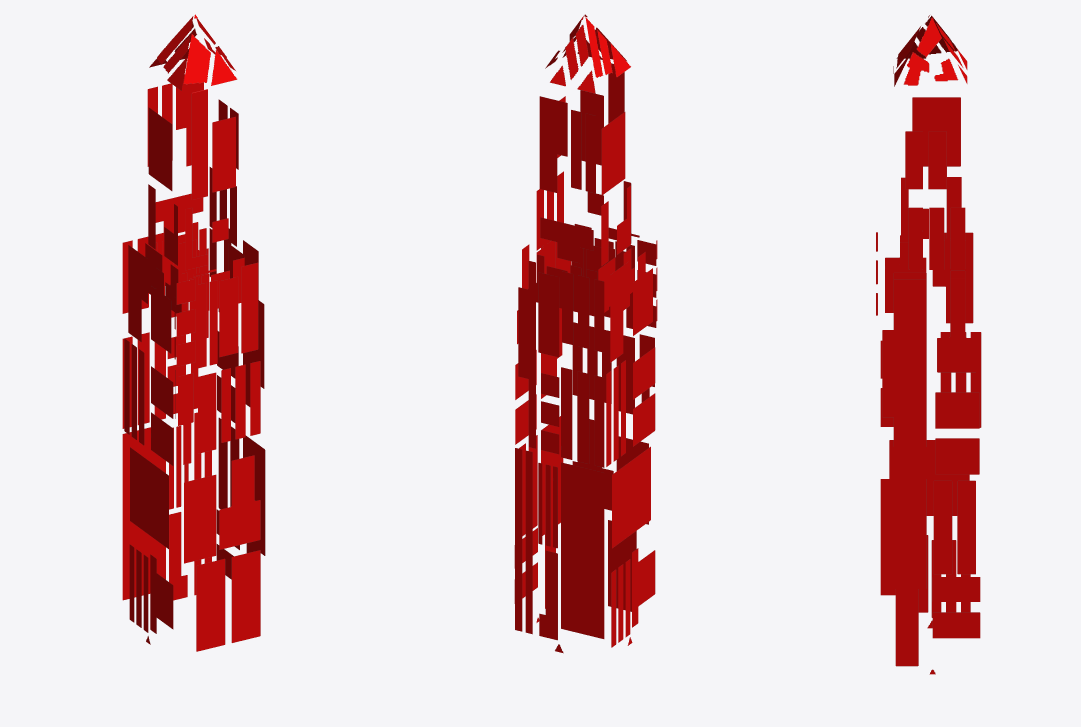
File: tower_low.FBX
3 views of the same model, side by side, from view 1: azimuth 30°, elevation 25°; view 2: azimuth 150°, elevation 25°; view 3: azimuth 270°, elevation 25° (orthographic). The views are drawn at different scales.
Visible parts, largest first — view 1: front, left, back, right; view 2: back, left, front, right; view 3: right, left.
Part boxes in pixels (bbox=[...]): front: bbox=[176, 14, 260, 651]; left: bbox=[124, 16, 193, 644]; back: bbox=[122, 21, 211, 600]; right: bbox=[196, 18, 265, 579]; back: bbox=[515, 16, 604, 653]; left: bbox=[585, 17, 657, 647]; front: bbox=[571, 14, 656, 611]; right: bbox=[514, 19, 581, 622]; right: bbox=[880, 18, 980, 674]; left: bbox=[876, 15, 981, 628].
Size of the model in its own units: 234 by 608 by 234.
